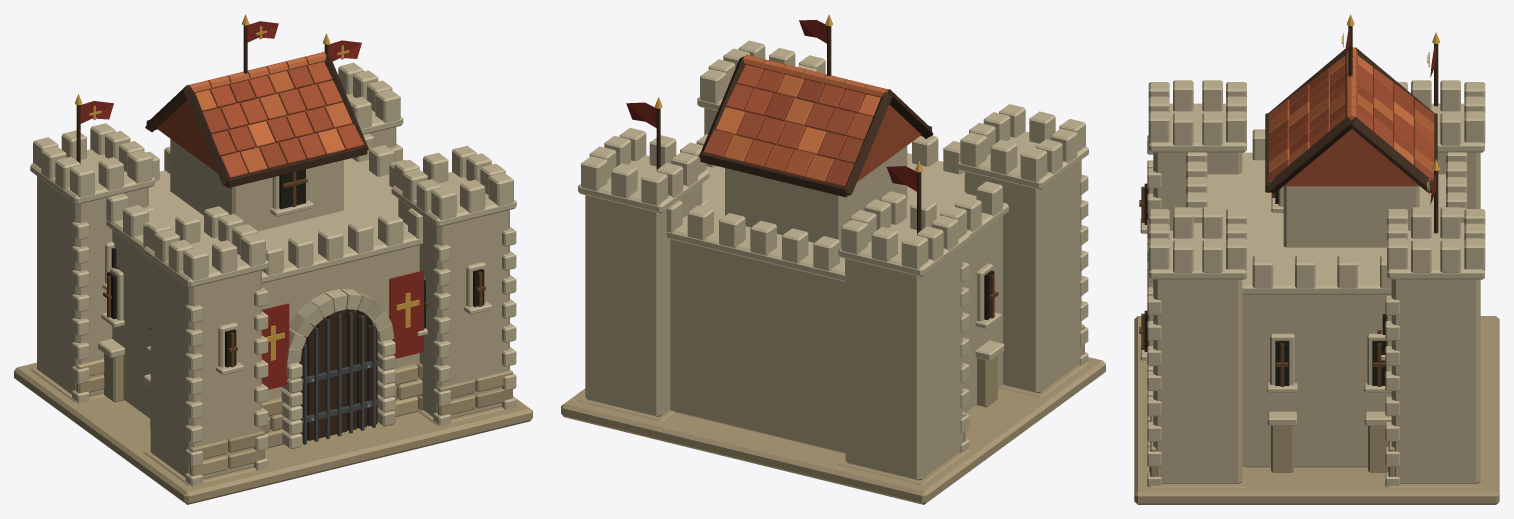
The model's file is enemy_keep.glb.
3 renders of one model, left to right at view 1: azimuth 30°, elevation 25°; view 2: azimuth 150°, elevation 25°; view 3: azimuth 270°, elevation 25°, orthographic. The views are drawn at different scales.
Parts seen in each view (by area): view 1: Stone, Roof, Timber, Fabric, Metal; view 2: Stone, Roof, Timber, Fabric; view 3: Stone, Roof, Timber.
Part boxes in pixels (<box>): Stone: <box>14,62,532,504</box>; Roof: <box>157,52,364,177</box>; Timber: <box>76,25,485,441</box>; Fabric: <box>80,21,423,389</box>; Metal: <box>75,14,419,444</box>; Stone: <box>561,40,1105,504</box>; Roof: <box>703,55,921,186</box>; Timber: <box>656,26,998,318</box>; Fabric: <box>626,20,916,191</box>; Stone: <box>1134,80,1499,504</box>; Roof: <box>1269,47,1434,186</box>; Timber: <box>1139,26,1438,386</box>.
Bounding box in the file's own units: 8.8 × 9.12 × 7.6.
